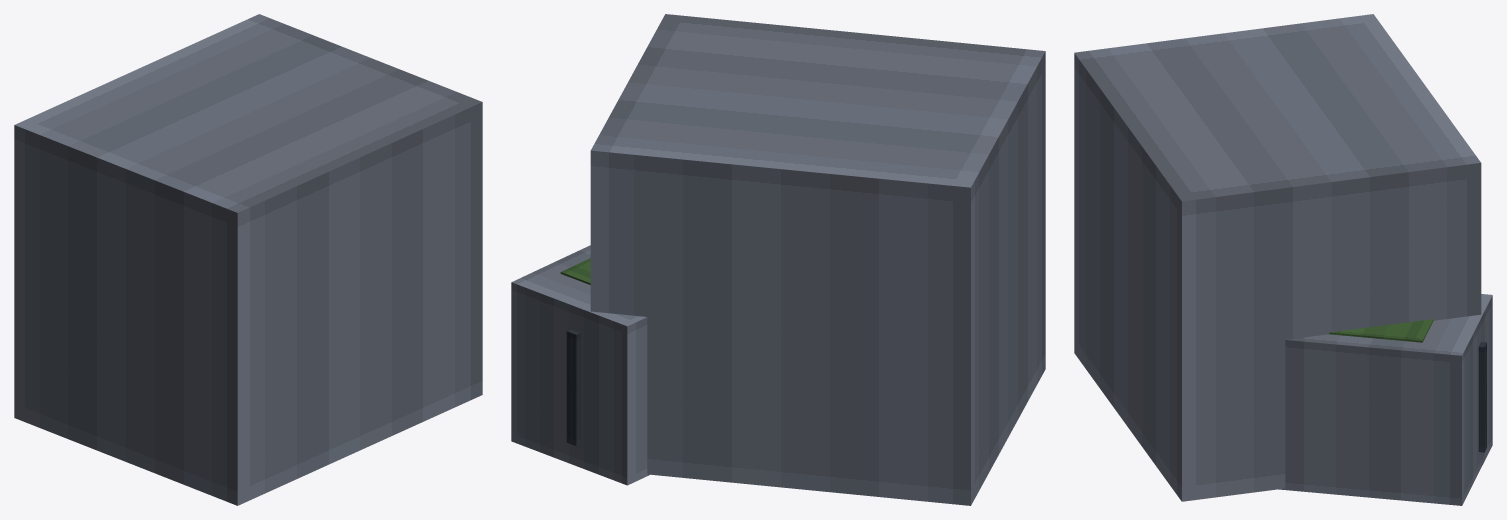
Rendered from rock_medium_forest.gltf.
The picture shows the model from 3 angles, left to right: view 1: azimuth 30°, elevation 25°; view 2: azimuth 150°, elevation 25°; view 3: azimuth 270°, elevation 25°; orthographic projection. The views are drawn at different scales.
Parts seen in each view (by area): view 1: root_mesh; view 2: root_mesh; view 3: root_mesh.
Part boxes in pixels (box(x1,y1,x2,y2)): root_mesh: box(14, 14, 482, 505); root_mesh: box(511, 14, 1045, 505); root_mesh: box(1074, 14, 1492, 505).
Bounding box in the file's own units: 1.37 × 1.02 × 1.28.
Materials: 1 (1 with a texture image).
